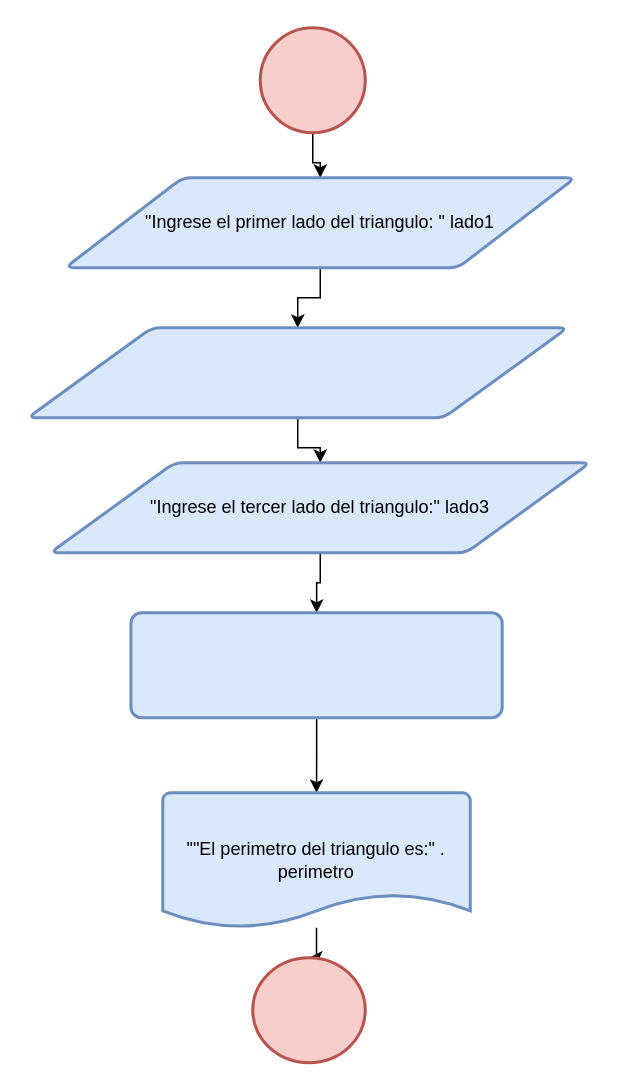
The diagram is 617 pixels wide and 1089 high, and some of its shapes have lost their labels. The centre of each missing label's shape, as x and y in pixels:
"Ingrese el segundo lado del triangulo: " lado2: (297,372)
perimetro = lado1 + lado2 + lado3: (316,664)
